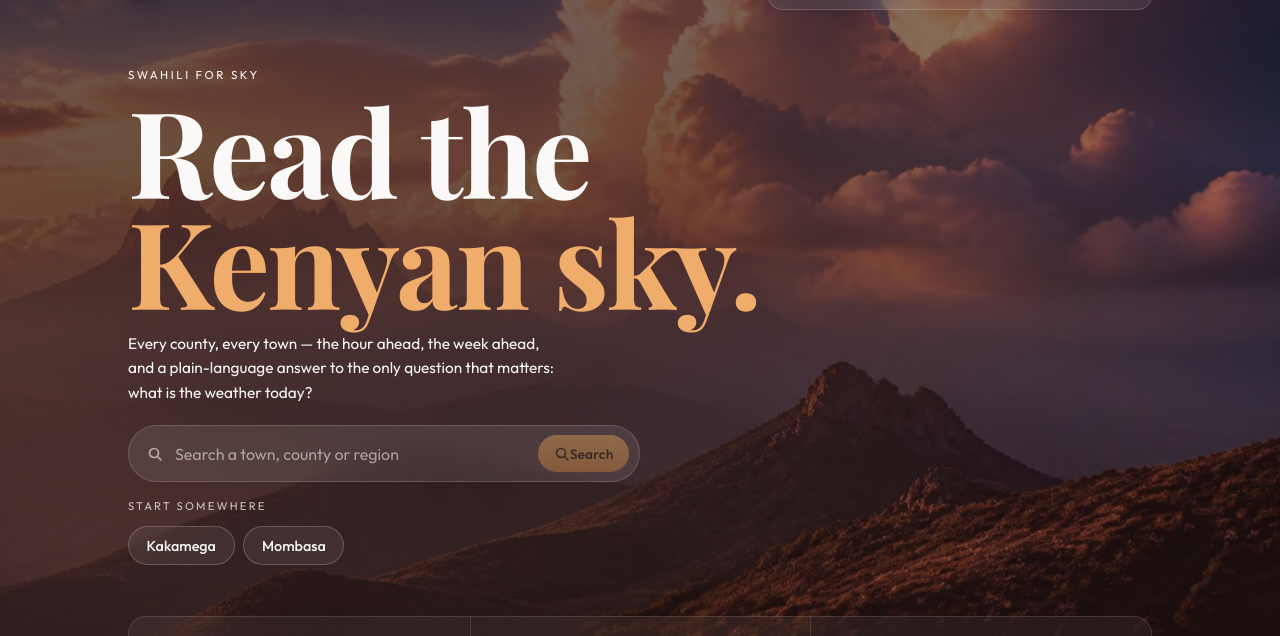
Test case: rainfall column › gives every hourly column a rainfall slot so the strip cannot jitter
The image size is (1280, 636).
Click the button "Kakamega". click: [181, 546]
box: [128,526,235,565]
(page scrolled)
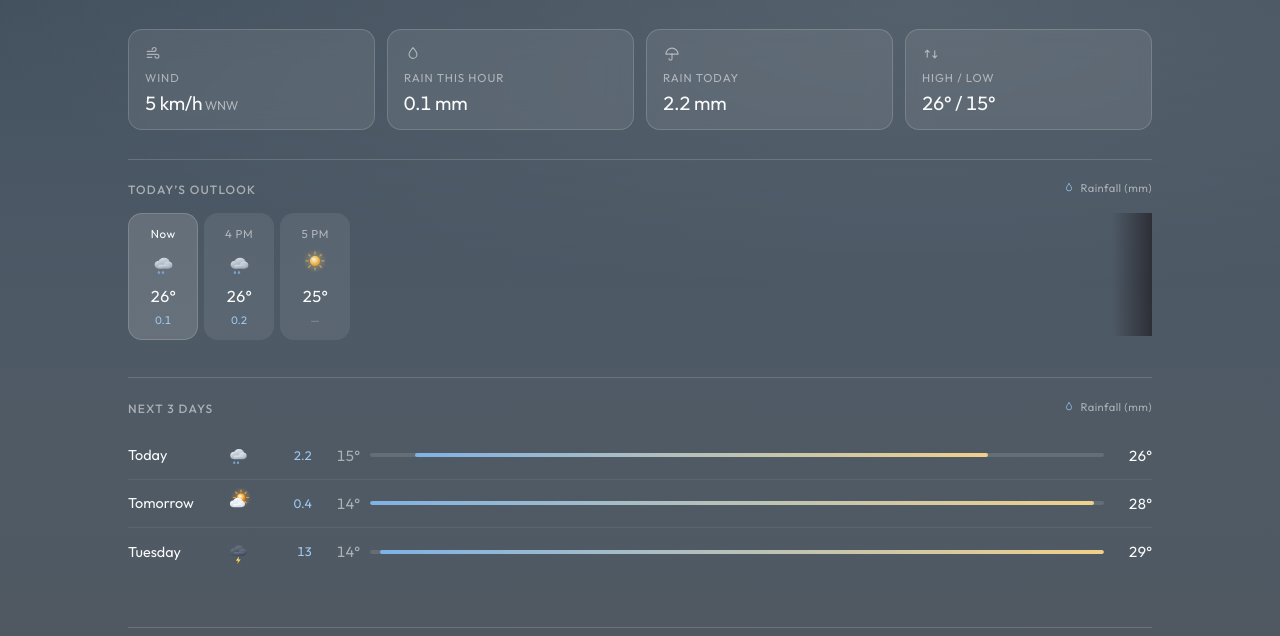
Now the list item "Now 26° 0.1" is shown, box [128,213,198,340]
Now the list item "4 PM 26° 0.2" is shown, box [204,213,274,340]
Now the list item "5 PM 25° —" is shown, box [280,213,350,340]
